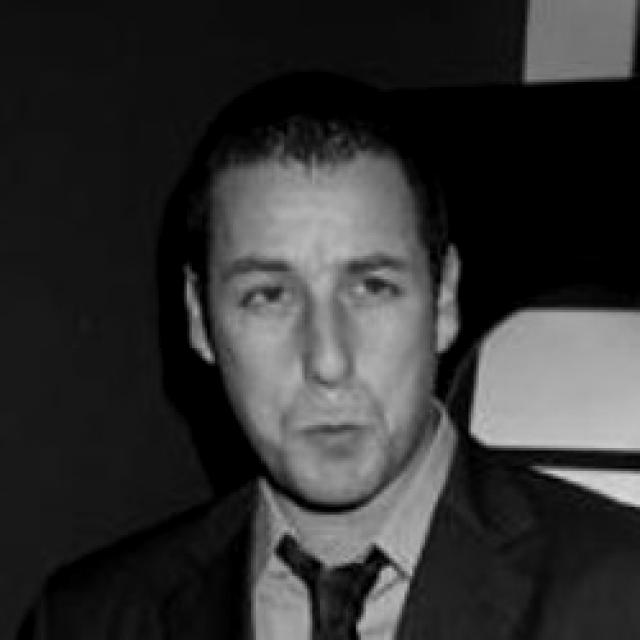real: (210, 163, 438, 503), (224, 265, 417, 319)
